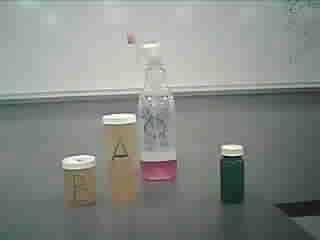Bottle A: (98, 110, 139, 208)
Bottle B: (58, 149, 105, 215)
Bottle C: (214, 134, 252, 212)
hazard: (132, 19, 192, 184)
